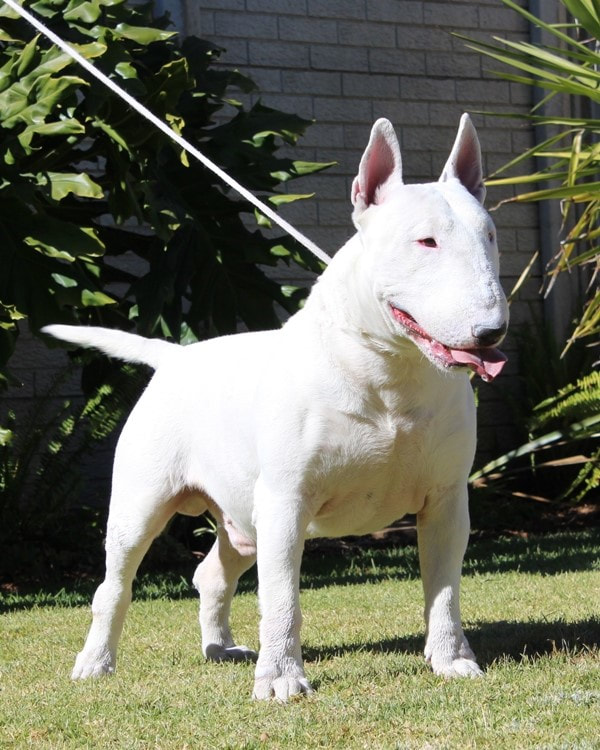bull_terrier: (38, 110, 511, 700)
